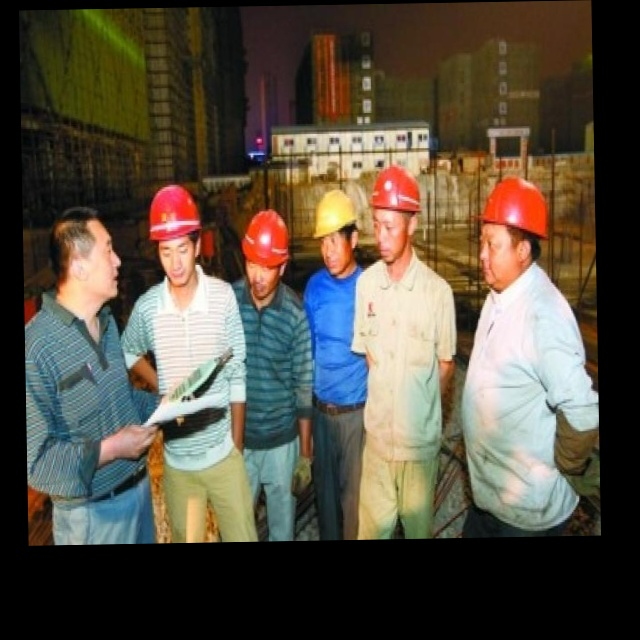Con_Casco: (148, 184, 199, 283), (242, 207, 288, 300)
Con_Chaleco: (461, 290, 590, 524), (355, 272, 457, 451)
Sin_Casco_Mascarrilla: (54, 209, 117, 310)
